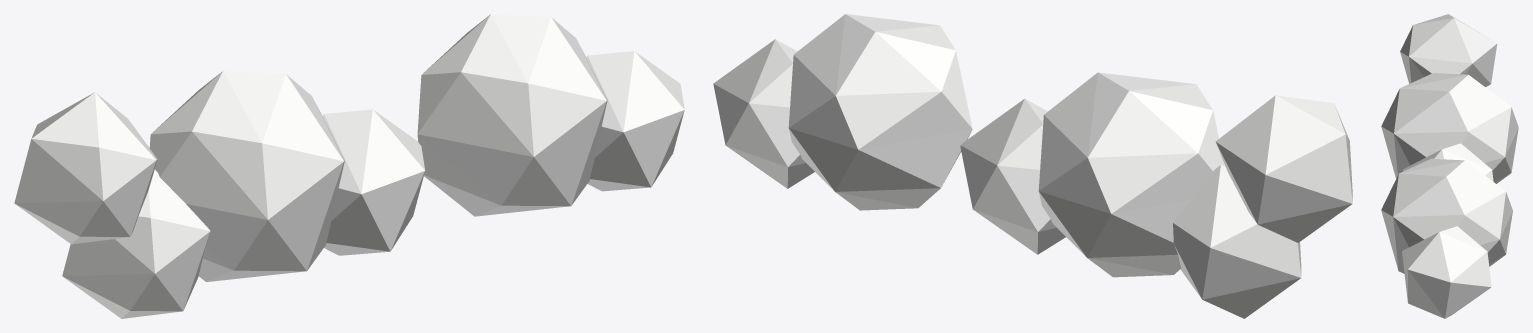
File: Cloud_v22.fbx
The picture shows the model from 3 angles, left to right: view 1: azimuth 30°, elevation 25°; view 2: azimuth 150°, elevation 25°; view 3: azimuth 270°, elevation 25°; orthographic projection. The views are drawn at different scales.
Parts seen in each view (by area): view 1: Cloud_v22; view 2: Cloud_v22; view 3: Cloud_v22.
Boxes of the visible parts, x1,y1,x2,y2 form: Cloud_v22: (14, 14, 684, 318); Cloud_v22: (713, 14, 1352, 318); Cloud_v22: (1381, 14, 1518, 318).
Size of the model in its own units: 117 by 39.84 by 33.16.
1 material, 1 textured.
